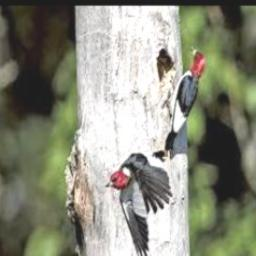Woodpecker: (105, 154, 172, 256), (163, 46, 204, 150)
